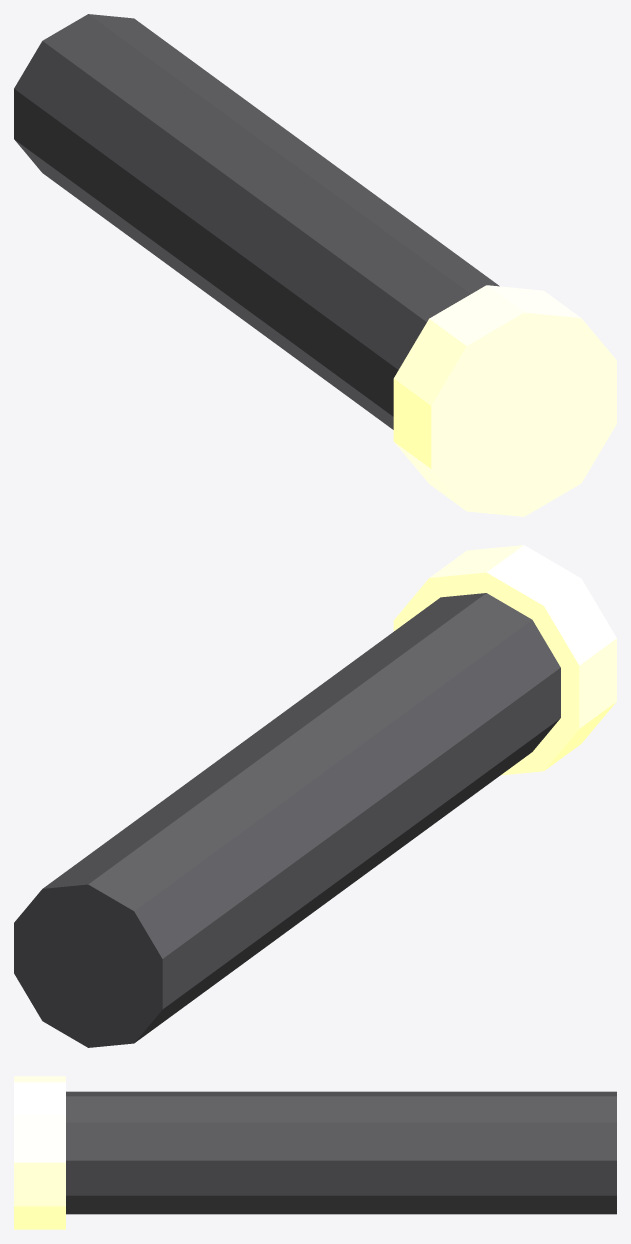
The model's file is barrel.glb.
The picture shows the model from 3 angles, top to bottom: view 1: azimuth 30°, elevation 25°; view 2: azimuth 150°, elevation 25°; view 3: azimuth 270°, elevation 25°; orthographic projection. The views are drawn at different scales.
Parts seen in each view (by area): view 1: barrel, muzzle; view 2: barrel, muzzle; view 3: barrel, muzzle.
Part boxes in pixels (bbox=[...]): barrel: bbox=[14, 14, 499, 429]; muzzle: bbox=[393, 285, 616, 516]; barrel: bbox=[14, 593, 560, 1047]; muzzle: bbox=[393, 545, 616, 775]; barrel: bbox=[66, 1091, 616, 1214]; muzzle: bbox=[14, 1076, 65, 1229].
Size of the model in its own units: 0.1427 by 0.15 by 0.58.
